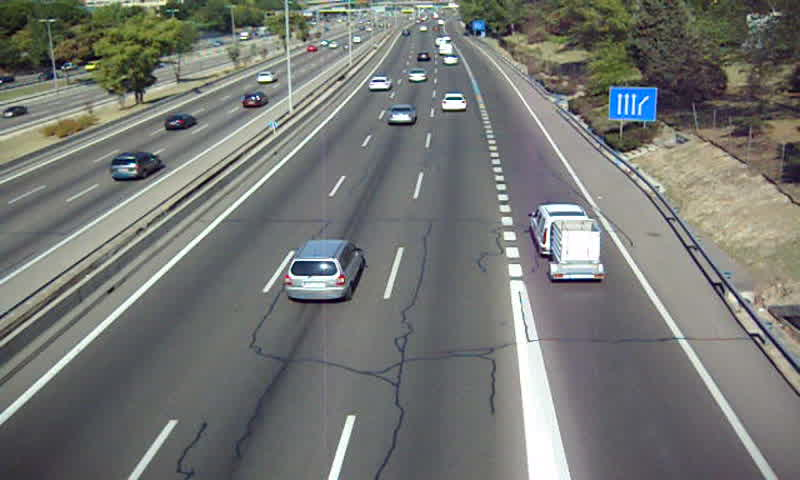car: (283, 238, 365, 301), (386, 104, 418, 125), (441, 92, 466, 112), (368, 75, 391, 92), (405, 68, 428, 84), (443, 54, 460, 65)
van: (528, 204, 590, 256)
